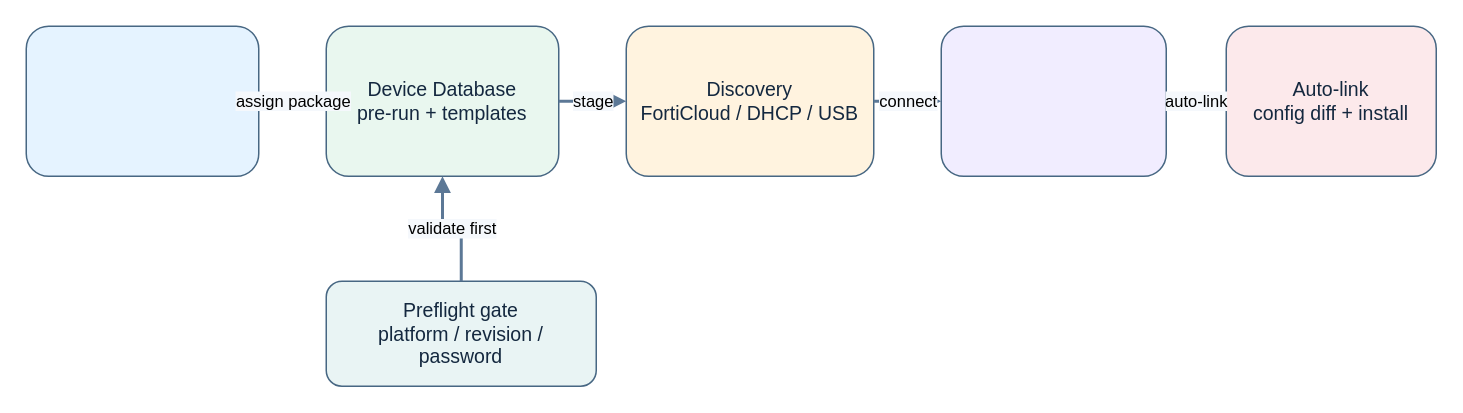
The diagram is 1463 pixels wide and 413 high, and some of its shapes have lost their labels. Each missing label, with the centre of its shape:
"Offline model device ADOM objects" belongs at (x=142, y=100).
"Real FortiGate FGFM authorization" belongs at (x=1053, y=100).
